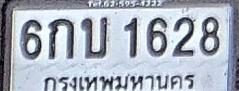1: (123, 16, 138, 58)
2: (173, 16, 194, 56)
6: (20, 19, 42, 59), (147, 16, 167, 56)
8: (200, 16, 220, 55)
A01: (48, 18, 74, 59)
A26: (80, 16, 108, 58)
BKK: (40, 70, 198, 91)
